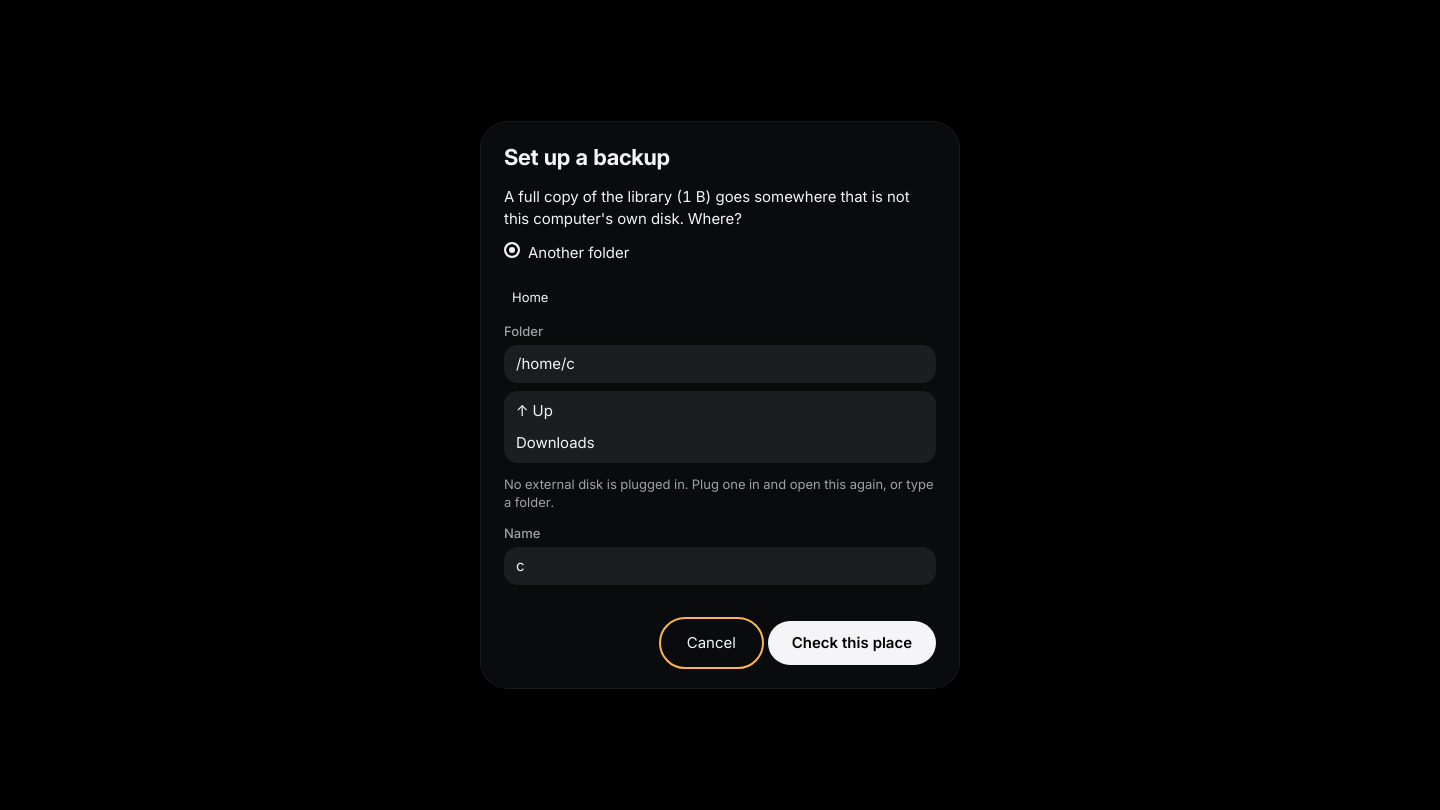
Test: BackupSetup, another folder › follows the folder again once the name is emptied
Replace the text in the field labelled "Folder" with "/home/c/Downloads/testbackup" at (720, 364), box [504, 345, 936, 383]
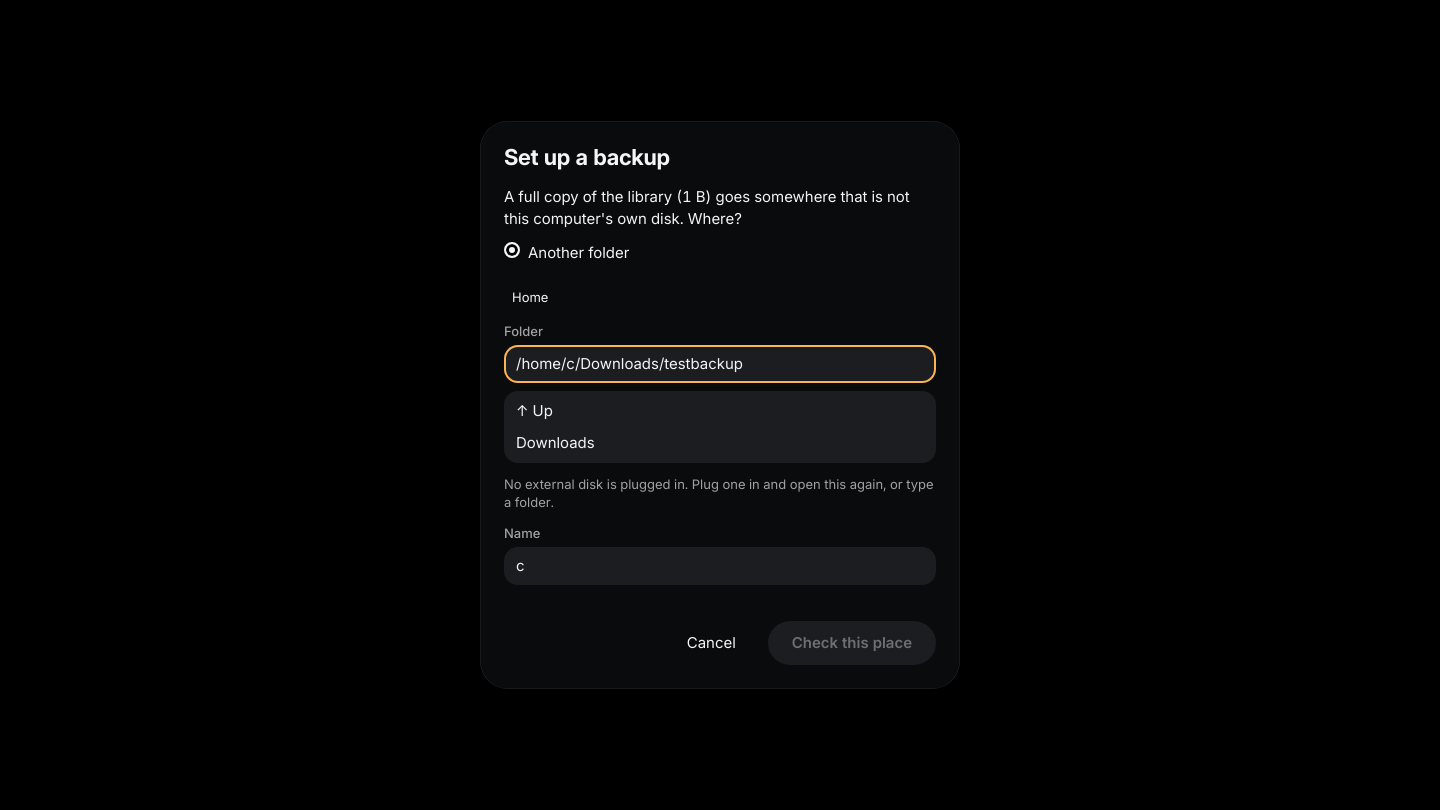
Press Enter in the field labelled "Folder", box [504, 345, 936, 383]
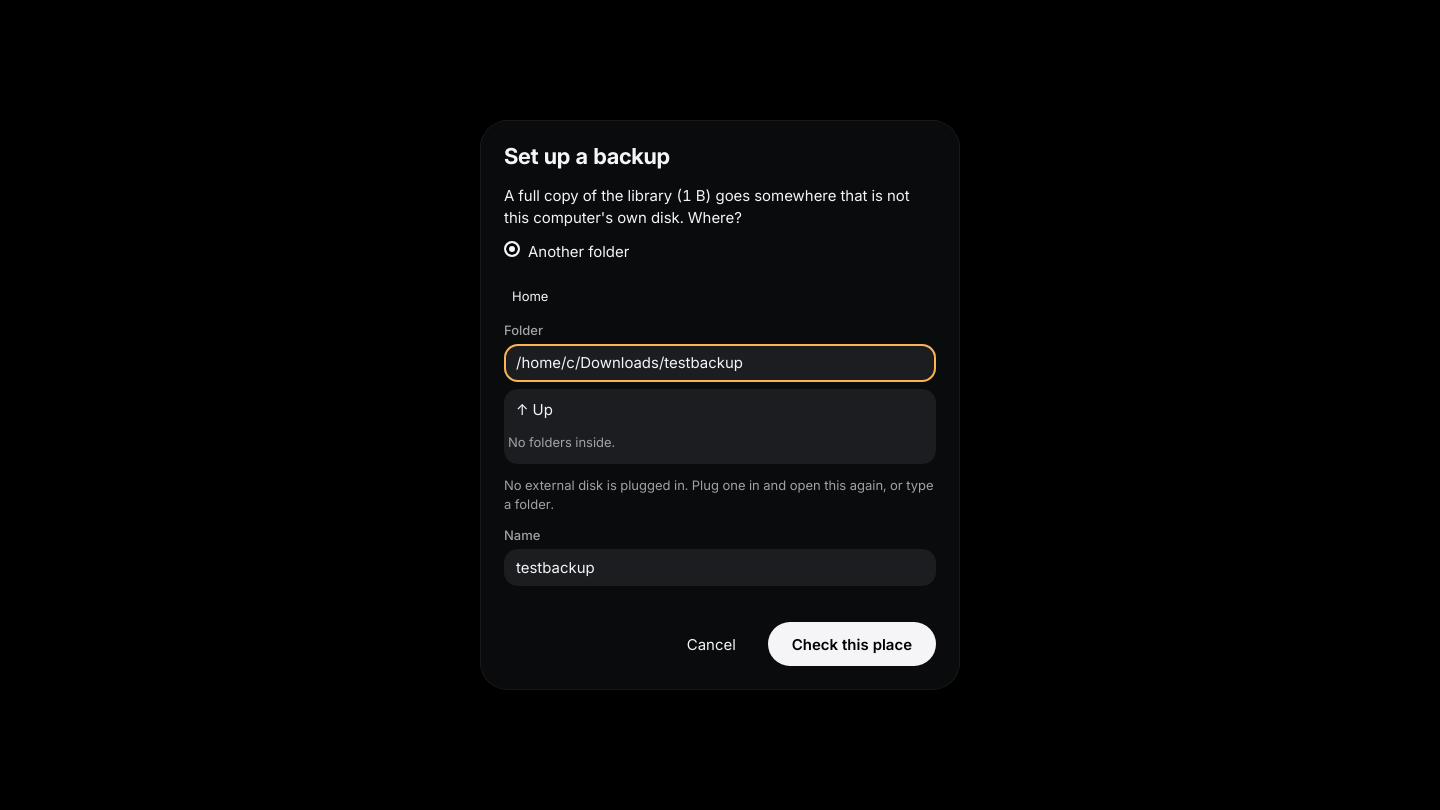
Replace the text in the field labelled "Name" with "Old disk" at (720, 567), box [504, 548, 936, 586]
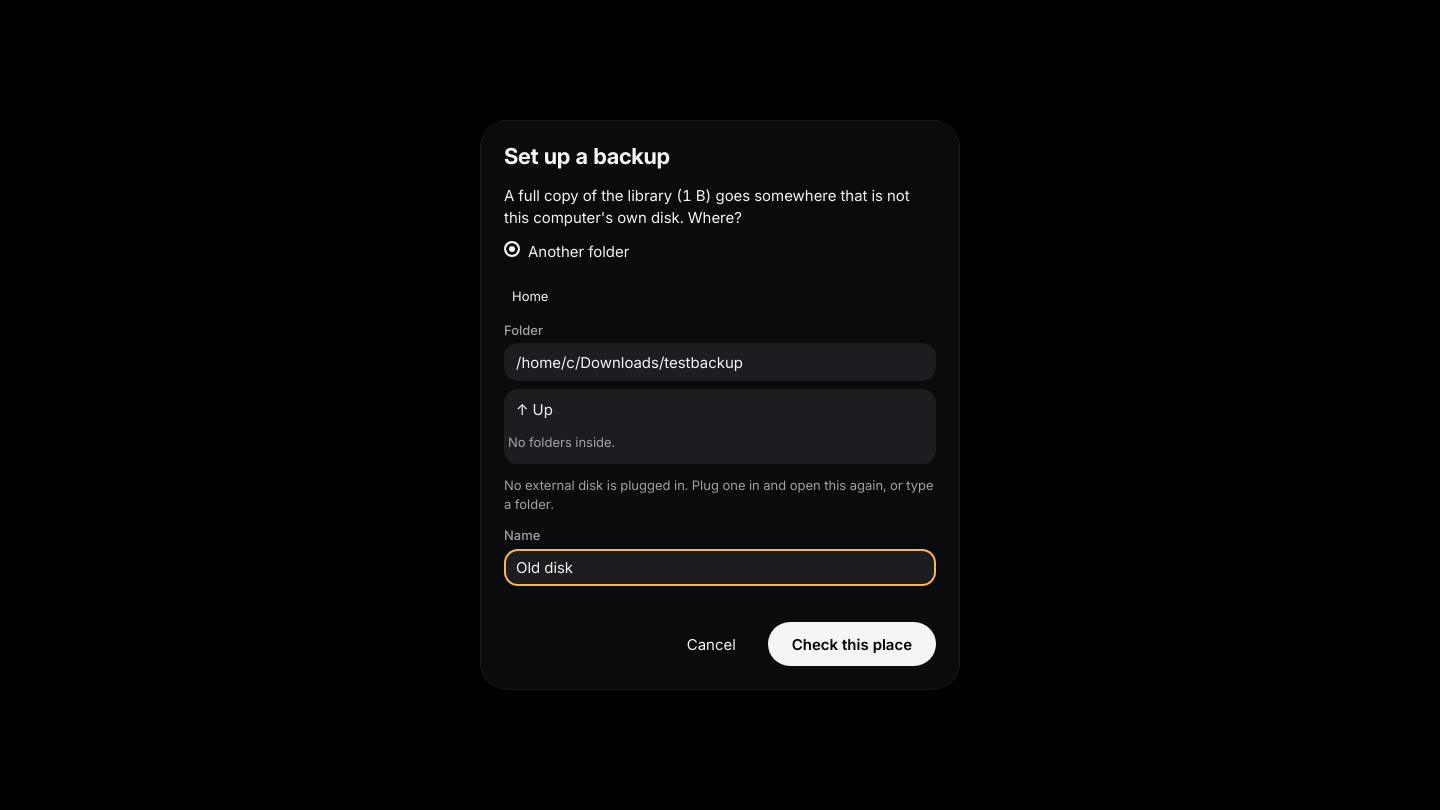
Clear the field labelled "Name" at (720, 567), box [504, 548, 936, 586]
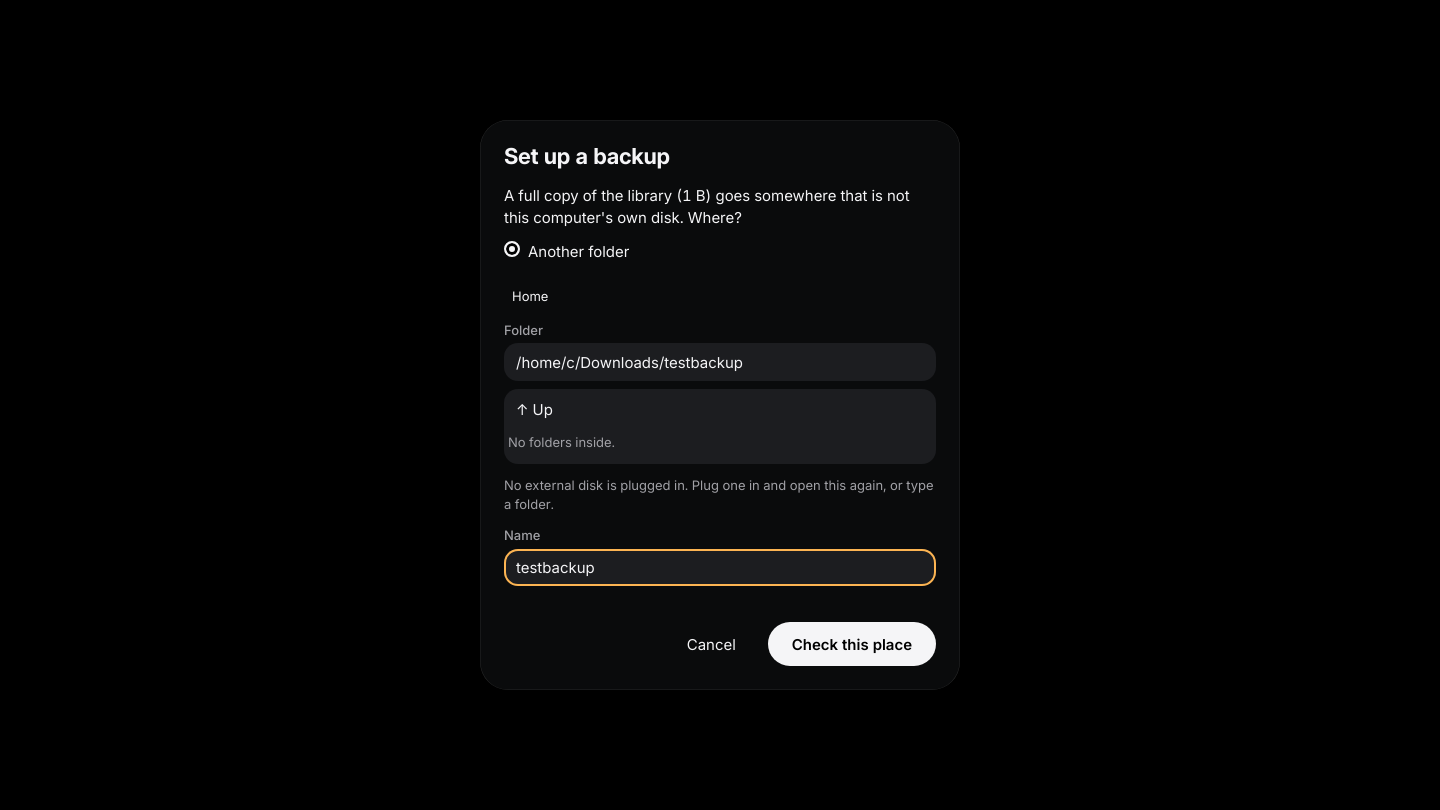
Click the button "Home" at (530, 296), box [504, 280, 556, 312]
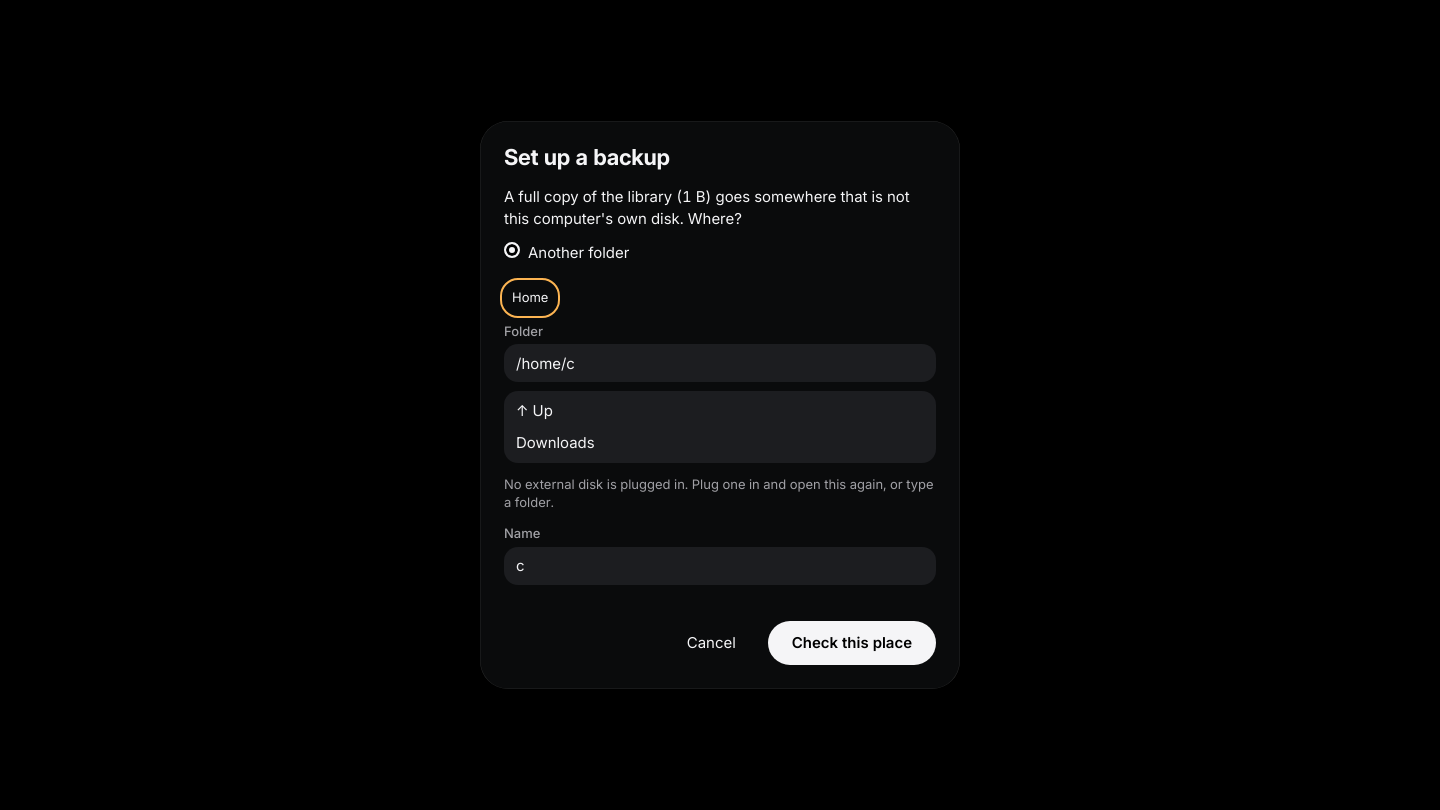
Result: the field labelled "Name" holds "c" at [504, 547, 936, 585]
